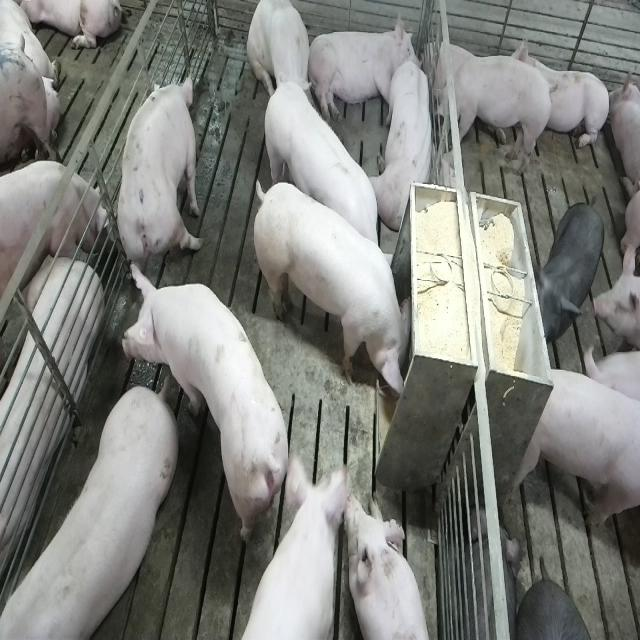Feeding: (255, 174, 420, 406), (234, 452, 352, 638)
Lateral_lying: (0, 232, 103, 593), (306, 15, 421, 128)
Sitting: (247, 1, 316, 113)
Standing: (125, 269, 294, 555), (0, 384, 175, 640), (260, 77, 389, 278), (506, 367, 638, 541), (116, 74, 205, 281), (426, 50, 555, 182), (0, 161, 106, 303), (534, 200, 604, 346)
Sternal_lying: (348, 494, 433, 640), (512, 30, 610, 154), (374, 60, 437, 233)
